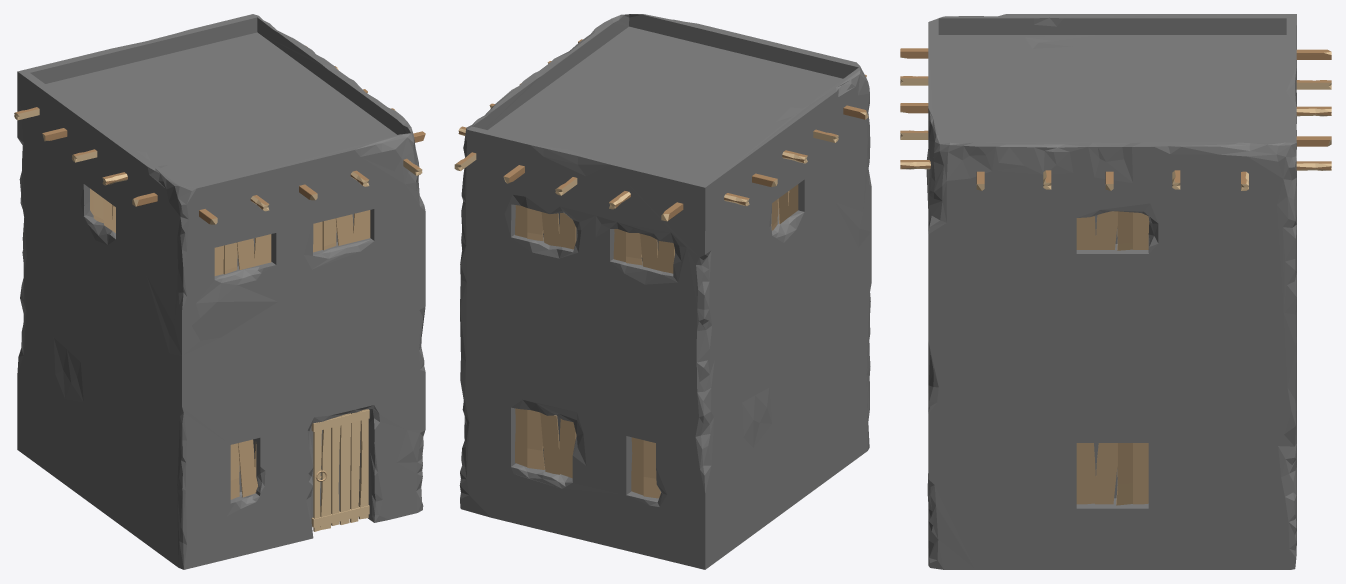
File: SM_house_egypt_06.fbx
3 renders of one model, left to right at view 1: azimuth 30°, elevation 25°; view 2: azimuth 150°, elevation 25°; view 3: azimuth 270°, elevation 25°, orthographic. The views are drawn at different scales.
Visible parts, largest first — view 1: Object153; view 2: Object153; view 3: Object153.
Part boxes in pixels (x1,y1,x2,y2): Object153: [14, 14, 425, 569]; Object153: [454, 14, 871, 569]; Object153: [900, 14, 1331, 569].
Bounding box in the file's own units: 220 × 256 × 277.
